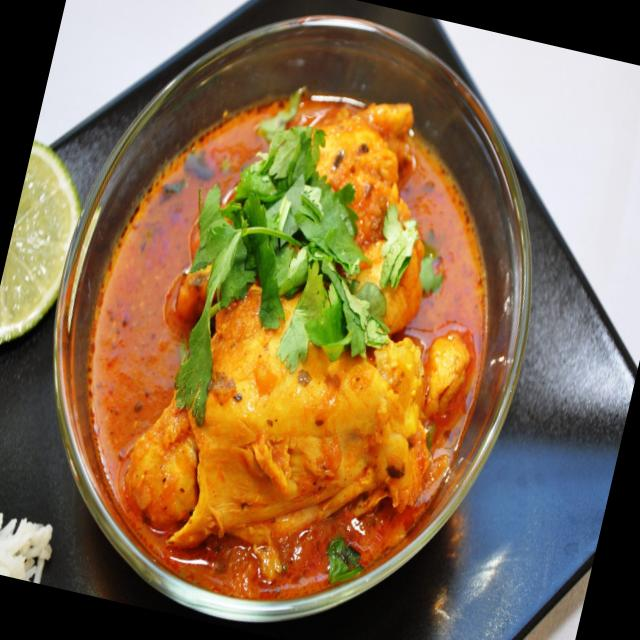chicken: (51, 16, 544, 617)
rice: (0, 487, 48, 580)
